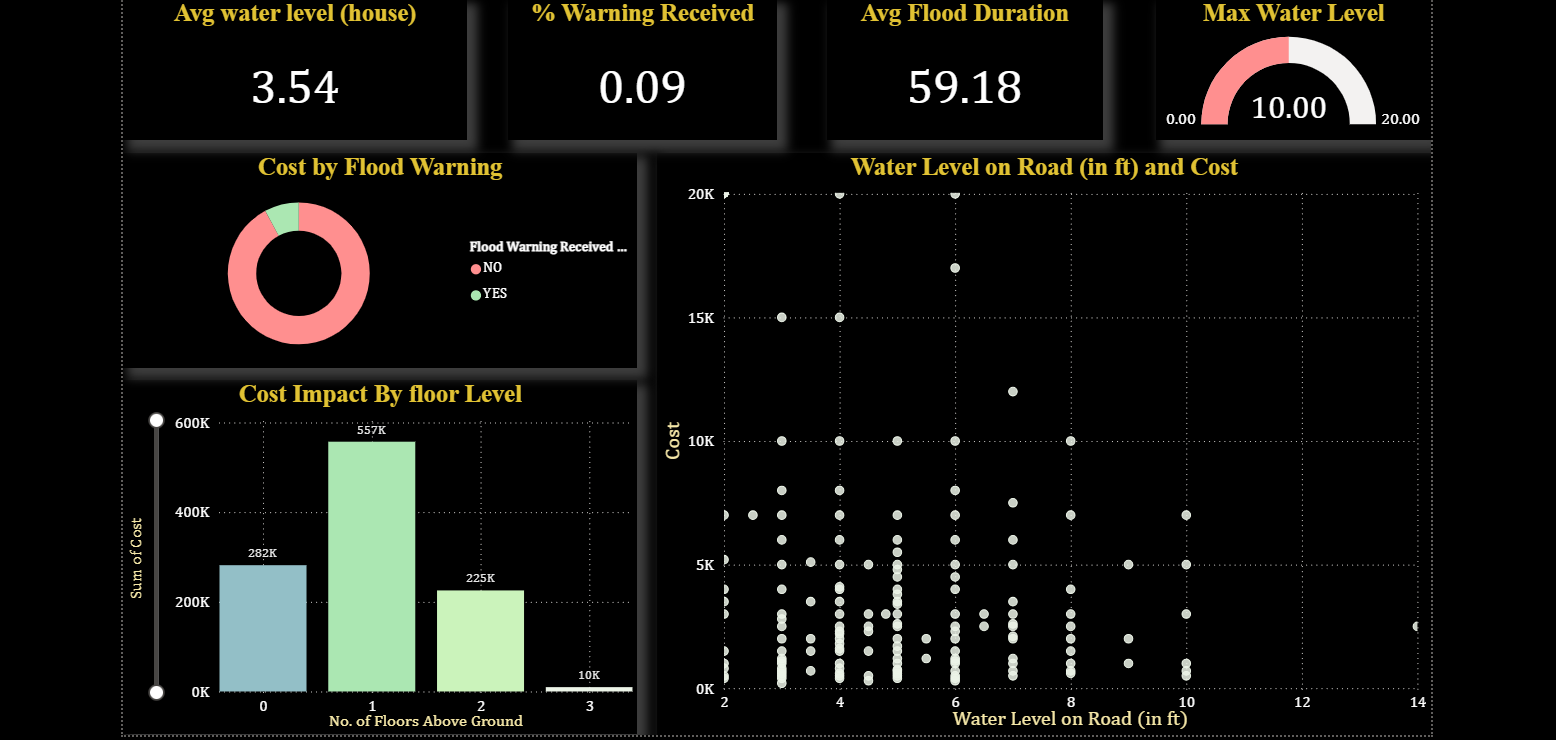

This screenshot's page, from the dashboard's own definition file:
{"tool":"powerbi","page":{"name":"factors","canvas":[1280,720],"ordinal":2},"visuals":[{"type":"card","title":"Avg water level (house)","fields":{"Values":["Sheet1.Avg Water Level (House)"]},"box":[0,0,336.7,138.3],"z":0},{"type":"card","title":"% Warning Received","fields":{"Values":["Sheet1.% Warning Received"]},"box":[376.7,0,263.3,138.3],"z":1000},{"type":"scatterChart","fields":{"Y":["Sheet1 (2).Cost"],"X":["Sheet1.Water Level on Road (in ft)"]},"box":[521.7,150,758.3,570],"z":2000},{"type":"donutChart","title":"Cost by Flood Warning","fields":{"Category":["Sheet1.Flood Warning Received (Yes/No)"],"Y":["Sum(Sheet1 (2).Cost)"]},"box":[0,150,503.3,210],"z":3000},{"type":"columnChart","title":"Cost Impact By floor Level","fields":{"Category":["Sheet1.No. of Floors Above Ground"],"Y":["Sum(Sheet1 (2).Cost)"]},"box":[0,373.3,503.3,346.7],"z":4000},{"type":"card","title":"Avg Flood Duration","fields":{"Values":["Sheet1.Avg Flood Duration"]},"box":[688.3,0,270,138.3],"z":5000},{"type":"gauge","fields":{"Y":["Sheet1.Max Water Level"]},"box":[1010,0,270,138.3],"z":6000}]}

Visuals, with their boxes on the page's 1280x720 design canvas (x1, y1, x2, y2). These are canvas units, not pixel positions in the 1556x740 screenshot, which may show the page scaled, cropped or inside an application window:
"Avg water level (house)" card: (0, 0, 337, 138)
"% Warning Received" card: (377, 0, 640, 138)
scatterChart - Sheet1 (2).Cost x Sheet1.Water Level on Road (in ft): (522, 150, 1280, 720)
"Cost by Flood Warning" donutChart: (0, 150, 503, 360)
"Cost Impact By floor Level" columnChart: (0, 373, 503, 720)
"Avg Flood Duration" card: (688, 0, 958, 138)
gauge - Sheet1.Max Water Level: (1010, 0, 1280, 138)
